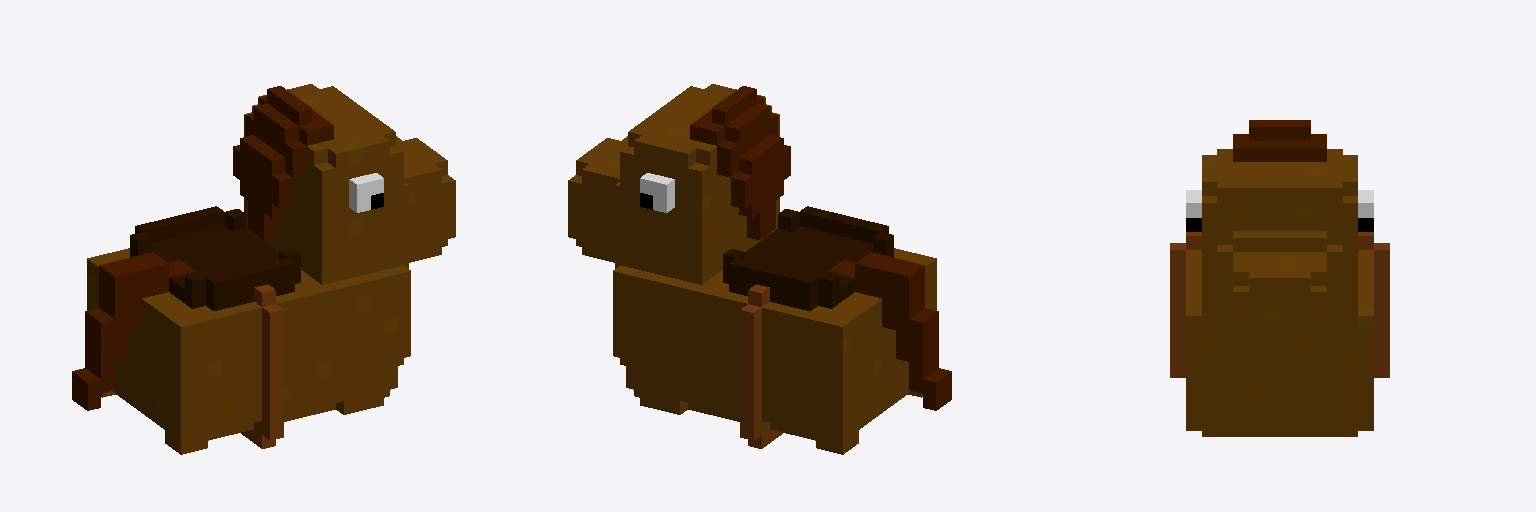
3 views of the same model, side by side, from view 1: azimuth 30°, elevation 25°; view 2: azimuth 150°, elevation 25°; view 3: azimuth 270°, elevation 25° (orthographic).
Bounding box in the file's own units: 26 × 21 × 14.
1 materials, 1 textured.